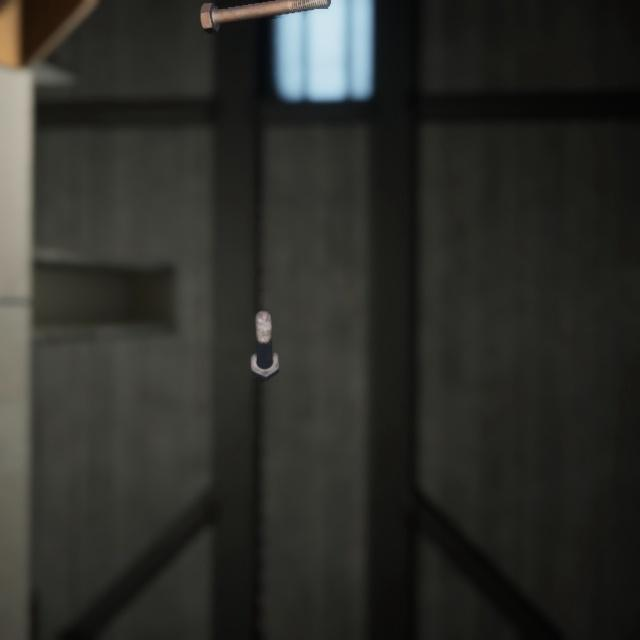bolt: (195, 0, 328, 29), (245, 286, 283, 366)
